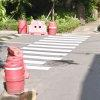crosswalks: (20, 36, 94, 68)
